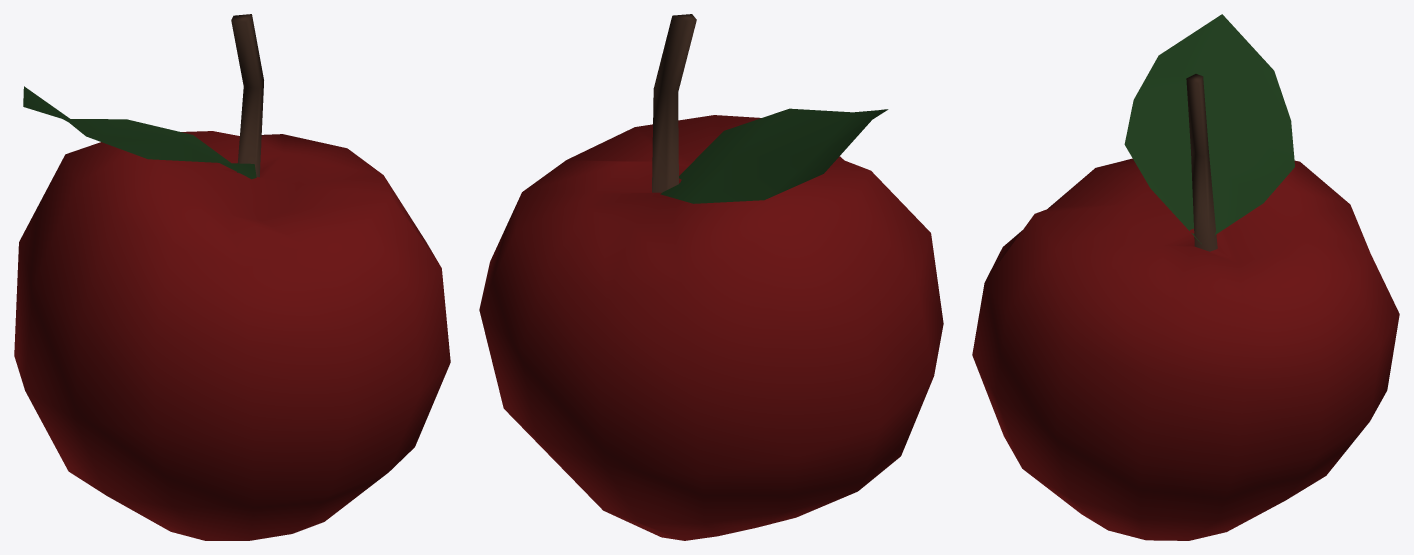
File: Apple.fbx
3 renders of one model, left to right at view 1: azimuth 30°, elevation 25°; view 2: azimuth 150°, elevation 25°; view 3: azimuth 270°, elevation 25°, orthographic. The views are drawn at different scales.
Parts seen in each view (by area): view 1: Plane; view 2: Plane; view 3: Plane.
Part boxes in pixels (<box>): Plane: <box>14,14,450,540</box>; Plane: <box>479,14,943,540</box>; Plane: <box>972,14,1399,540</box>.
Bounding box in the file's own units: 56.78 × 72.4 × 62.07.
